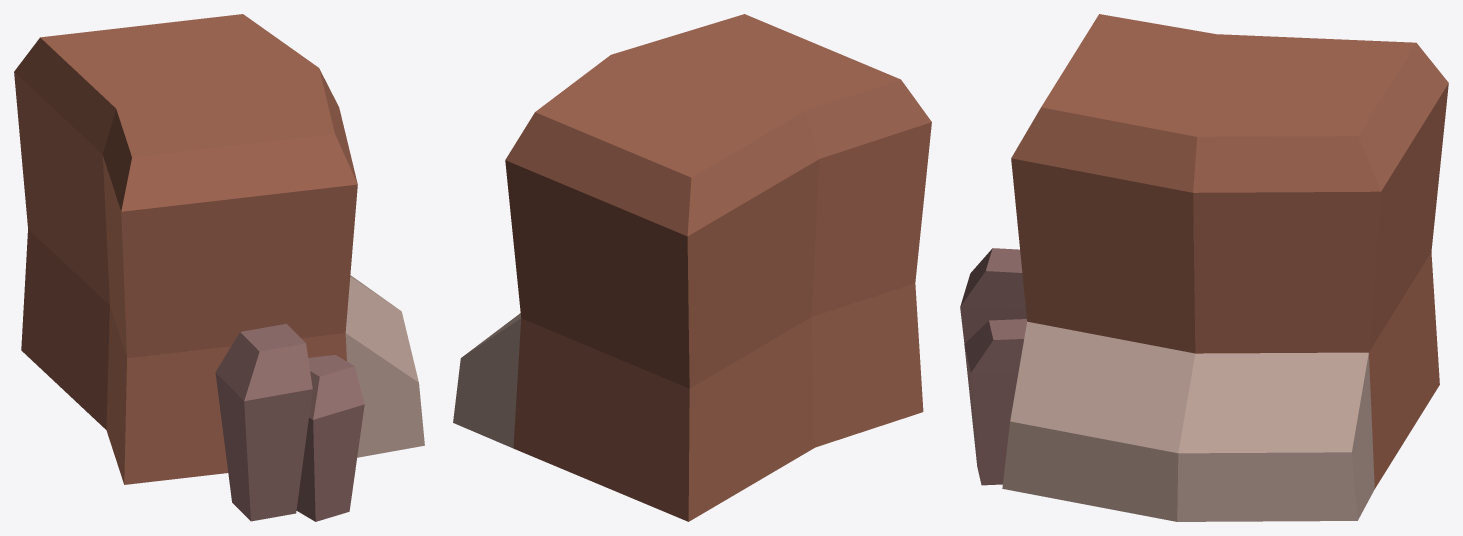
The model's file is rock-type6-03-orange.glb.
3 views of the same model, side by side, from view 1: azimuth 30°, elevation 25°; view 2: azimuth 150°, elevation 25°; view 3: azimuth 270°, elevation 25° (orthographic). The views are drawn at different scales.
Visible parts, largest first — view 1: Rock_Type6_03_mesh; view 2: Rock_Type6_03_mesh; view 3: Rock_Type6_03_mesh.
Part boxes in pixels (<box>): Rock_Type6_03_mesh: <box>14,14,424,521</box>; Rock_Type6_03_mesh: <box>453,14,931,521</box>; Rock_Type6_03_mesh: <box>960,14,1448,521</box>.
Size of the model in its own units: 1.11 by 1.14 by 1.31.
1 material, 1 textured.
